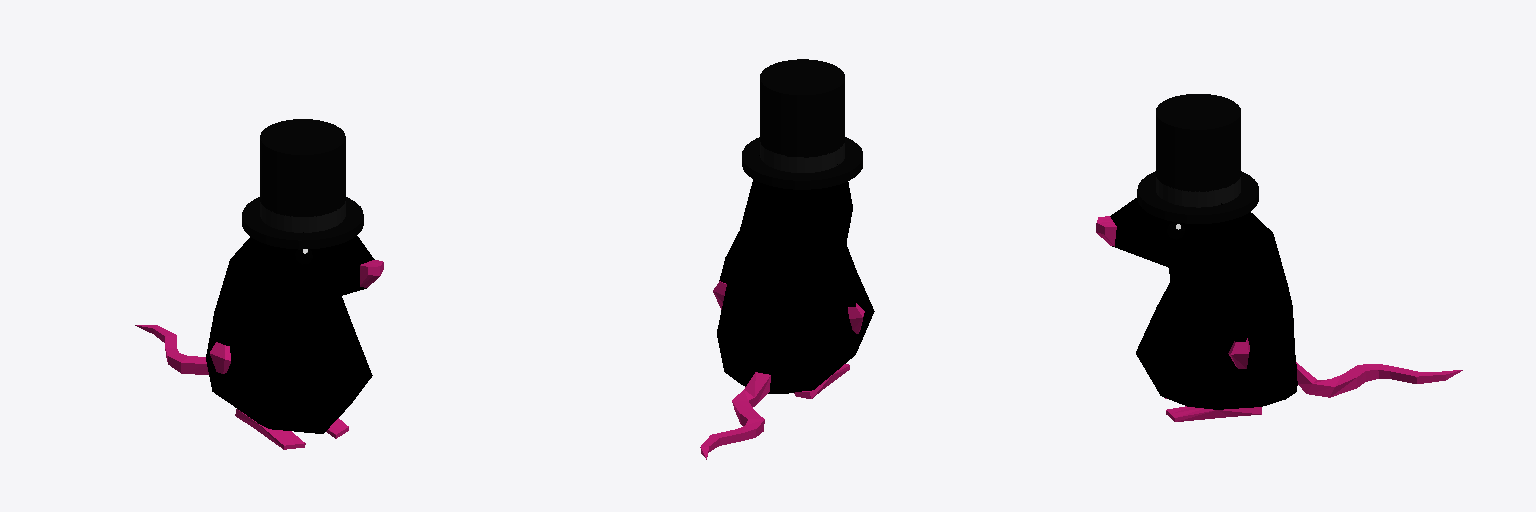
The model's file is RTb.obj.
3 views of the same model, side by side, from view 1: azimuth 30°, elevation 25°; view 2: azimuth 150°, elevation 25°; view 3: azimuth 270°, elevation 25° (orthographic).
Parts seen in each view (by area): view 1: Rat.013_buffer-0-mesh-0.125, Top_hat.001_Cylinder.002, Top_hat_Inner_cylinder.001_Cylinder.003, Tail.005_buffer-0-mesh-0.133, Rleg.011_buffer-0-mesh-0.126, Rshoulder.010_buffer-0-mesh-0.128; view 2: Rat.013_buffer-0-mesh-0.125, Top_hat.001_Cylinder.002, Tail.005_buffer-0-mesh-0.133, Top_hat_Inner_cylinder.001_Cylinder.003; view 3: Rat.013_buffer-0-mesh-0.125, Top_hat.001_Cylinder.002, Tail.005_buffer-0-mesh-0.133, Top_hat_Inner_cylinder.001_Cylinder.003, Lleg.011_buffer-0-mesh-0.127, Lshoulder.010_buffer-0-mesh-0.129.
Boxes of the visible parts, x1=… form: Rat.013_buffer-0-mesh-0.125: x1=206, y1=232, x2=374, y2=433; Top_hat.001_Cylinder.002: x1=242, y1=119, x2=363, y2=249; Top_hat_Inner_cylinder.001_Cylinder.003: x1=260, y1=201, x2=345, y2=232; Tail.005_buffer-0-mesh-0.133: x1=135, y1=325, x2=208, y2=374; Rleg.011_buffer-0-mesh-0.126: x1=235, y1=409, x2=305, y2=449; Rshoulder.010_buffer-0-mesh-0.128: x1=216, y1=311, x2=245, y2=345; Rat.013_buffer-0-mesh-0.125: x1=717, y1=155, x2=874, y2=393; Top_hat.001_Cylinder.002: x1=742, y1=59, x2=862, y2=189; Tail.005_buffer-0-mesh-0.133: x1=700, y1=372, x2=770, y2=459; Top_hat_Inner_cylinder.001_Cylinder.003: x1=760, y1=142, x2=844, y2=172; Rat.013_buffer-0-mesh-0.125: x1=1110, y1=198, x2=1297, y2=409; Top_hat.001_Cylinder.002: x1=1137, y1=94, x2=1258, y2=223; Tail.005_buffer-0-mesh-0.133: x1=1296, y1=362, x2=1462, y2=397; Top_hat_Inner_cylinder.001_Cylinder.003: x1=1156, y1=177, x2=1240, y2=207; Lleg.011_buffer-0-mesh-0.127: x1=1166, y1=406, x2=1261, y2=421; Lshoulder.010_buffer-0-mesh-0.129: x1=1219, y1=310, x2=1253, y2=341.
Size of the model in its own units: 1.15 by 2.28 by 2.59.